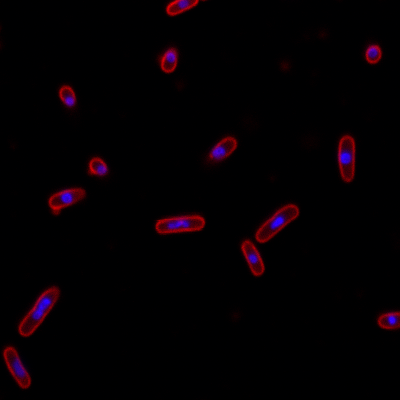CAM: (17, 286, 62, 338), (252, 203, 301, 245), (1, 345, 32, 391), (240, 239, 267, 278), (153, 214, 205, 234), (338, 133, 356, 183)
Oblique: (46, 187, 88, 212), (205, 135, 240, 164), (57, 83, 79, 113), (158, 45, 180, 75), (87, 155, 110, 178), (364, 43, 384, 63)
Vesicle: (279, 59, 290, 71)
